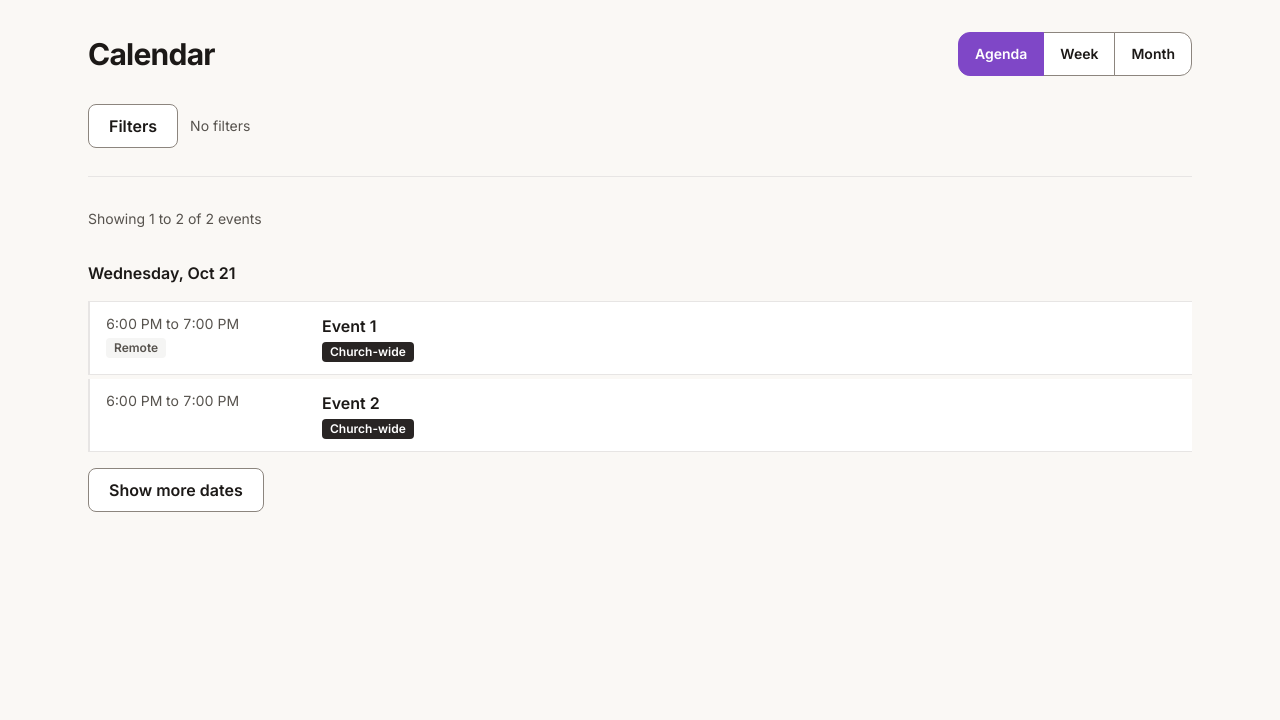
Test: filter chips (DEC-99) › shows each chip only when something in view has that
The image size is (1280, 720).
Click the button "Filters": (133, 126) [88,104,178,148]
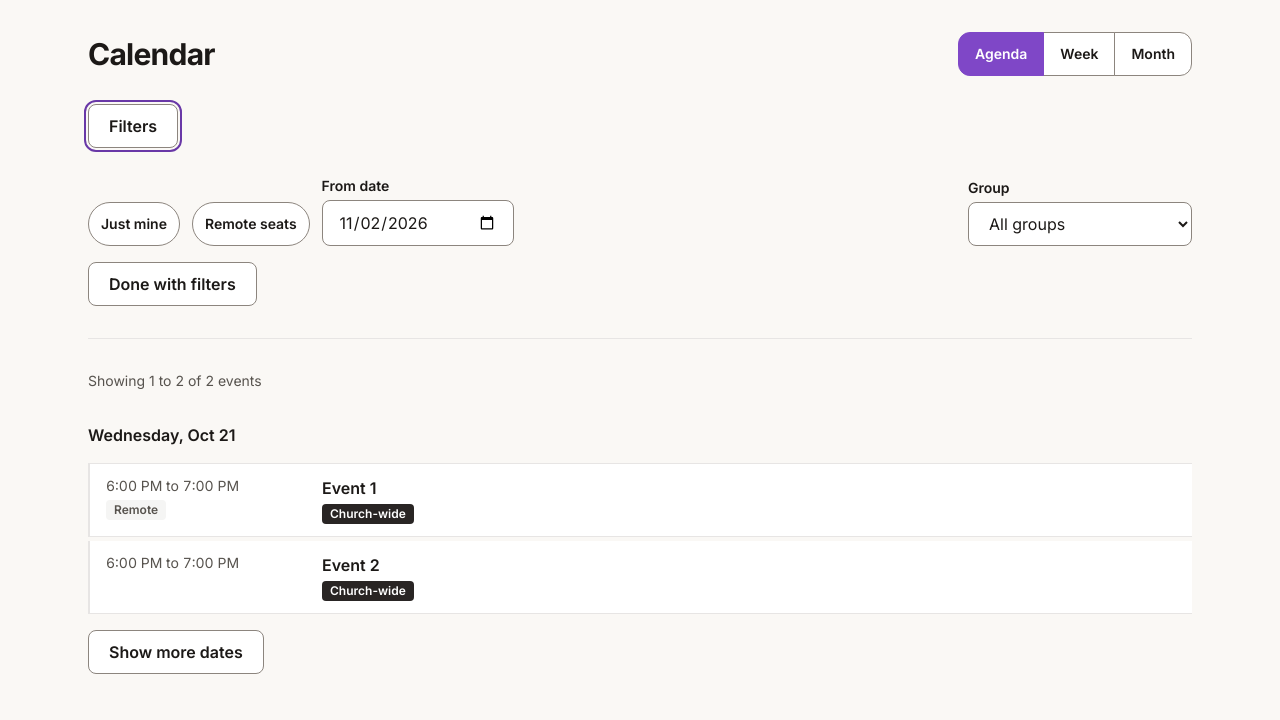
Expected: the button "Remote seats" is shown, [192,202,310,246]
